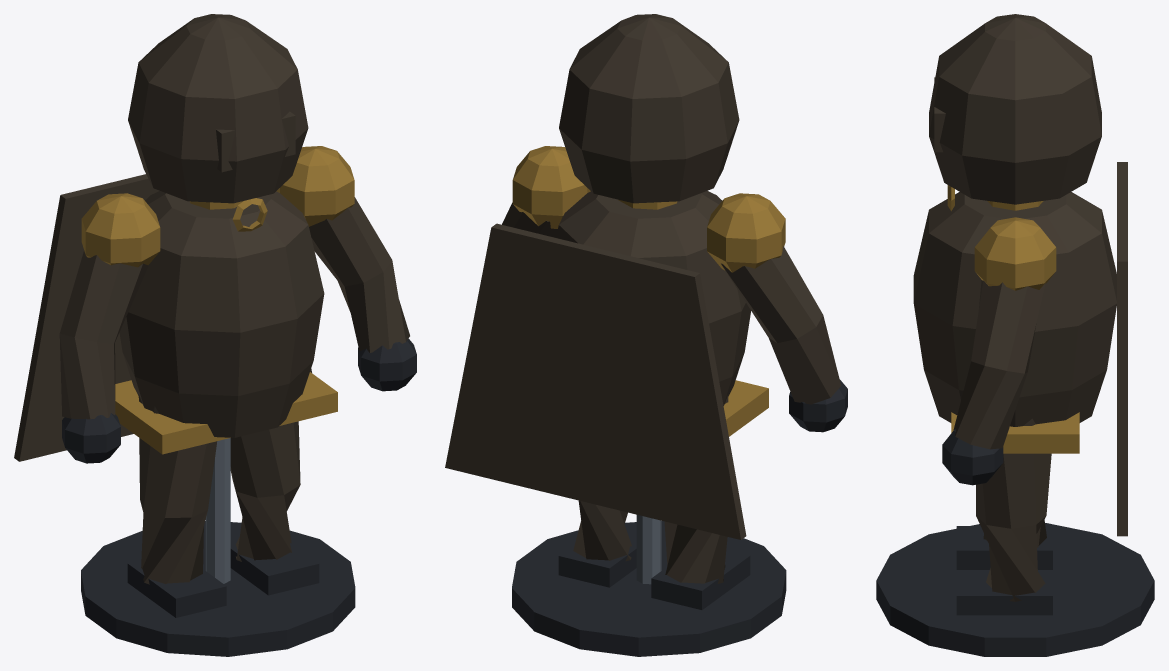
The model's file is cloak.glb.
3 renders of one model, left to right at view 1: azimuth 30°, elevation 25°; view 2: azimuth 150°, elevation 25°; view 3: azimuth 270°, elevation 25°, orthographic.
Visible parts, largest first — view 1: m; view 2: m; view 3: m.
Boxes of the visible parts, x1=… form: m: x1=14, y1=14, x2=416, y2=656; m: x1=445, y1=14, x2=847, y2=656; m: x1=876, y1=14, x2=1154, y2=656.
Size of the model in its own units: 0.352 by 0.56 by 0.2426.
